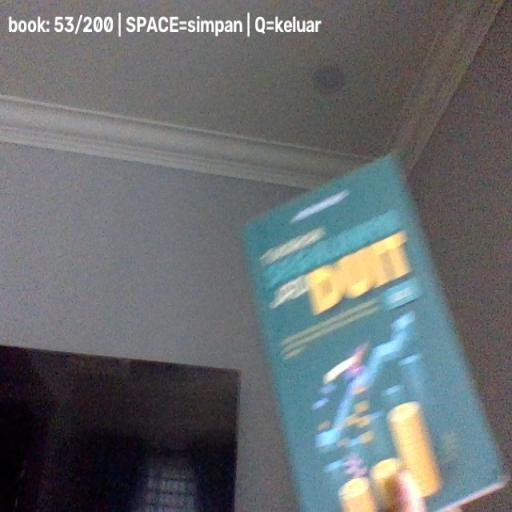Book: (241, 149, 507, 512)
